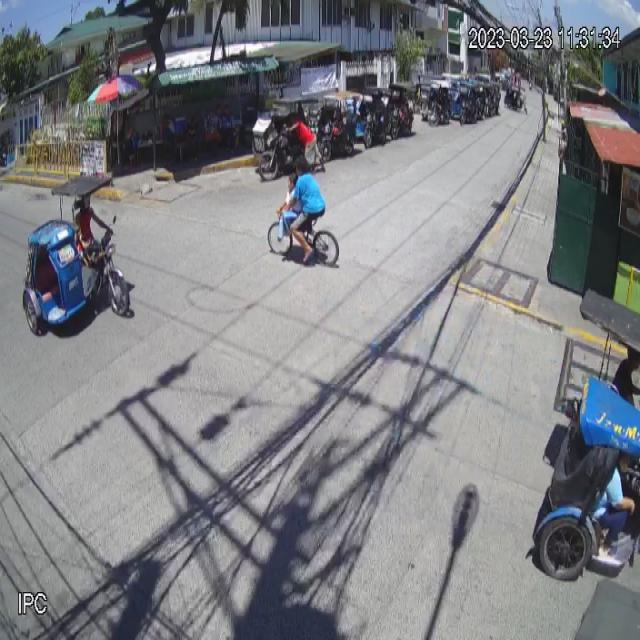Car: (533, 286, 640, 581)
Tricycle: (22, 174, 132, 338)
